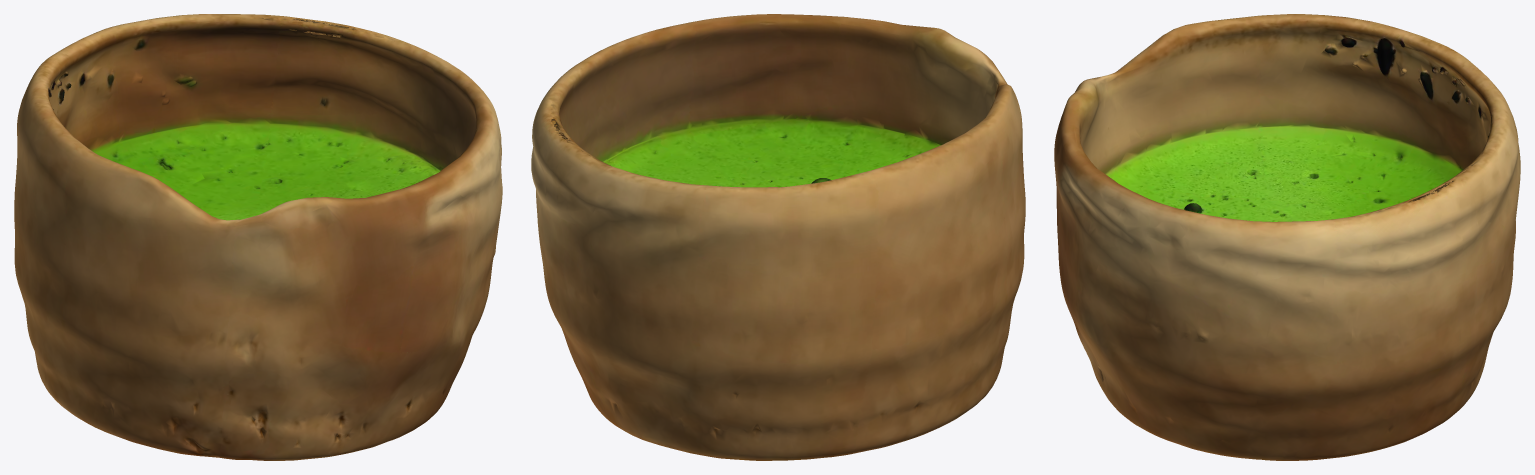
The model's file is matcha.glb.
3 views of the same model, side by side, from view 1: azimuth 30°, elevation 25°; view 2: azimuth 150°, elevation 25°; view 3: azimuth 270°, elevation 25° (orthographic). The views are drawn at different scales.
Parts seen in each view (by area): view 1: tripo_node_de98d8be-12fb-43b6-a2fb-fc8669005e3f; view 2: tripo_node_de98d8be-12fb-43b6-a2fb-fc8669005e3f; view 3: tripo_node_de98d8be-12fb-43b6-a2fb-fc8669005e3f.
Part boxes in pixels (x1,y1,x2,y2): tripo_node_de98d8be-12fb-43b6-a2fb-fc8669005e3f: (14, 14, 502, 460); tripo_node_de98d8be-12fb-43b6-a2fb-fc8669005e3f: (531, 14, 1025, 460); tripo_node_de98d8be-12fb-43b6-a2fb-fc8669005e3f: (1054, 14, 1520, 460).
Bounding box in the file's own units: 0.9799 × 0.6623 × 0.9766.
Materials: 1 (1 with a texture image).
